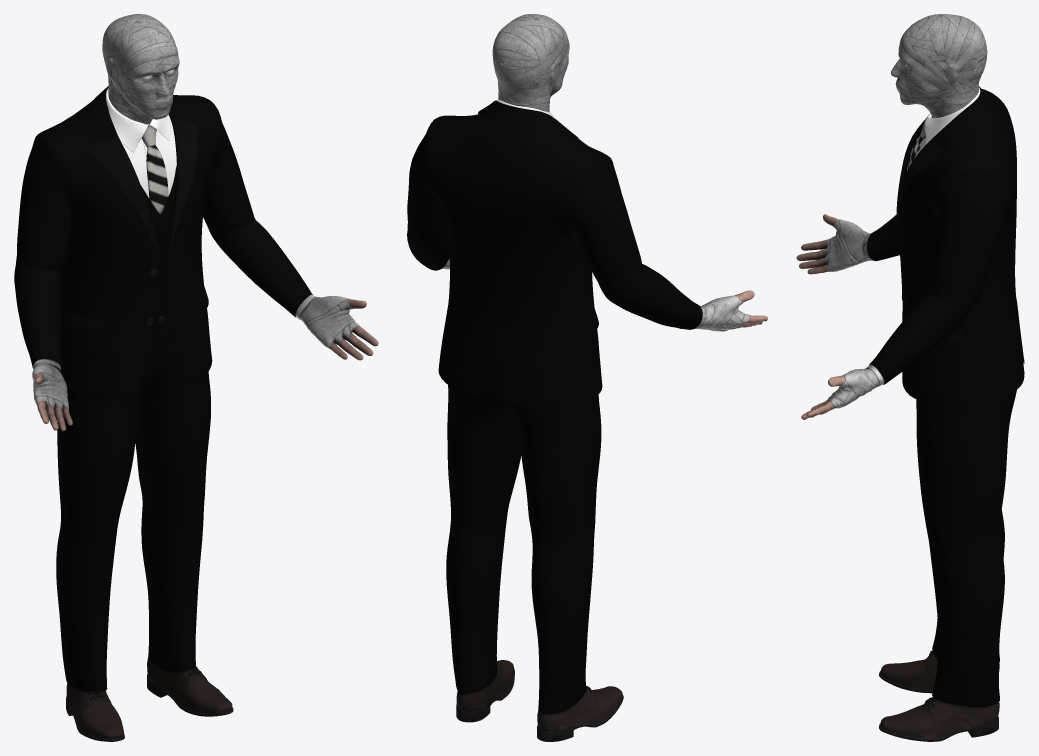
File: Bravo-v2.glb
The picture shows the model from 3 angles, left to right: view 1: azimuth 30°, elevation 25°; view 2: azimuth 150°, elevation 25°; view 3: azimuth 270°, elevation 25°; orthographic projection.
Visible parts, largest first — view 1: BRAVO (×2); view 2: BRAVO (×2); view 3: BRAVO (×2).
Boxes of the visible parts, x1=… form: BRAVO (×2): x1=14, y1=14, x2=378, y2=741; BRAVO (×2): x1=407, y1=14, x2=767, y2=741; BRAVO (×2): x1=796, y1=14, x2=1024, y2=741.
Size of the model in its own units: 0.8524 by 1.67 by 0.4996.
2 materials, 2 textured.
